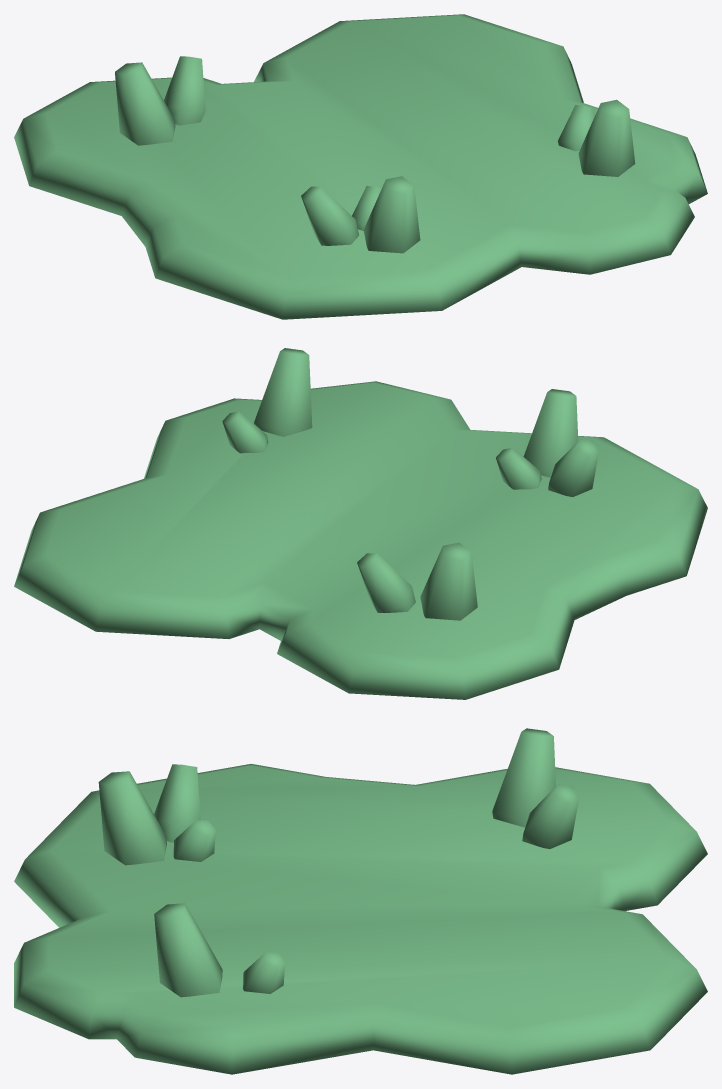
The model's file is forest_patch-grass.obj.
3 renders of one model, top to bottom at view 1: azimuth 30°, elevation 25°; view 2: azimuth 150°, elevation 25°; view 3: azimuth 270°, elevation 25°, orthographic. The views are drawn at different scales.
Visible parts, largest first — view 1: patch-grass; view 2: patch-grass; view 3: patch-grass.
Boxes of the visible parts, bbox=[...] form: patch-grass: bbox=[14, 14, 707, 319]; patch-grass: bbox=[14, 348, 707, 699]; patch-grass: bbox=[14, 728, 707, 1074].
Bounding box in the file's own units: 1 × 0.171 × 1.
Materials: 1 (1 with a texture image).
